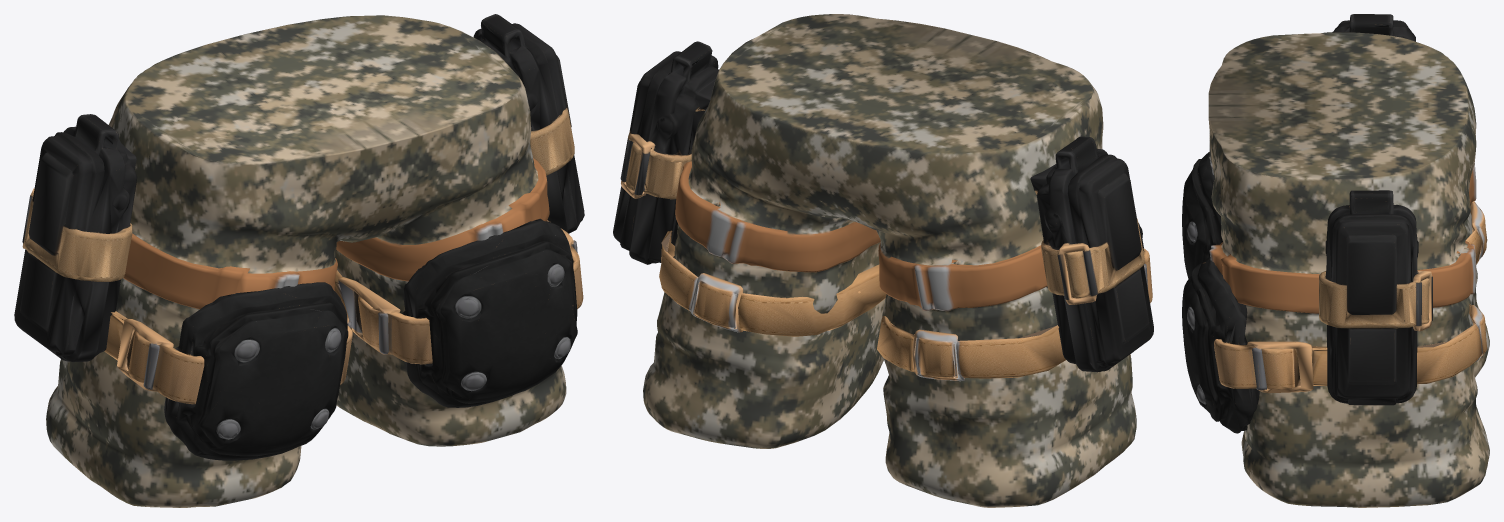
The model's file is Pants.glb.
3 views of the same model, side by side, from view 1: azimuth 30°, elevation 25°; view 2: azimuth 150°, elevation 25°; view 3: azimuth 270°, elevation 25° (orthographic). The views are drawn at different scales.
Parts seen in each view (by area): view 1: Cabur_low; view 2: Cabur_low; view 3: Cabur_low.
Part boxes in pixels (x1=…): Cabur_low: x1=14, y1=14, x2=584, y2=507; Cabur_low: x1=613, y1=14, x2=1153, y2=507; Cabur_low: x1=1182, y1=14, x2=1489, y2=507.
Size of the model in its own units: 0.5398 by 0.3376 by 0.3035.
3 materials, 3 textured.
